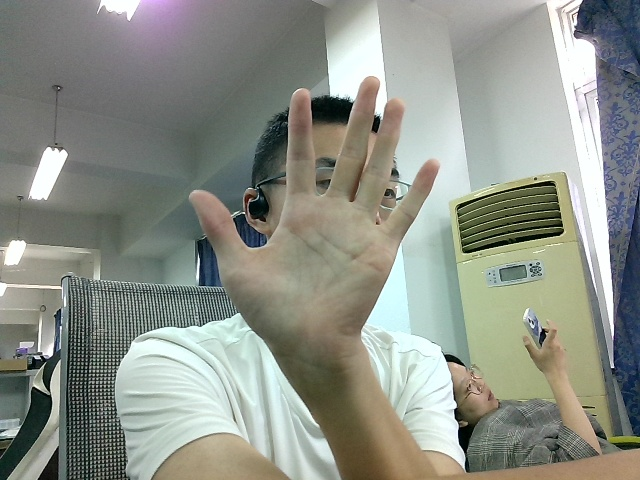paper: (191, 71, 439, 390)
